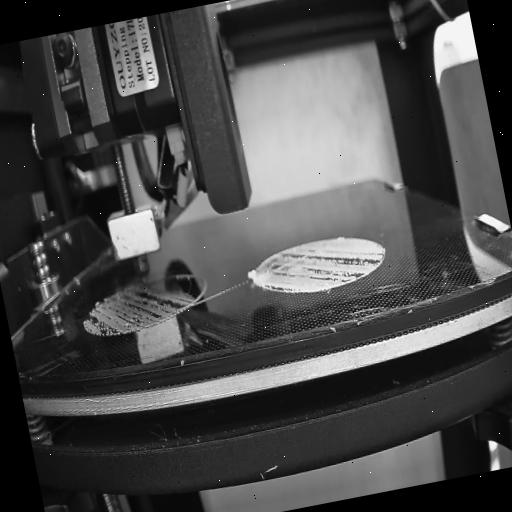under_extrusion: (260, 237, 388, 298), (82, 279, 196, 337)
